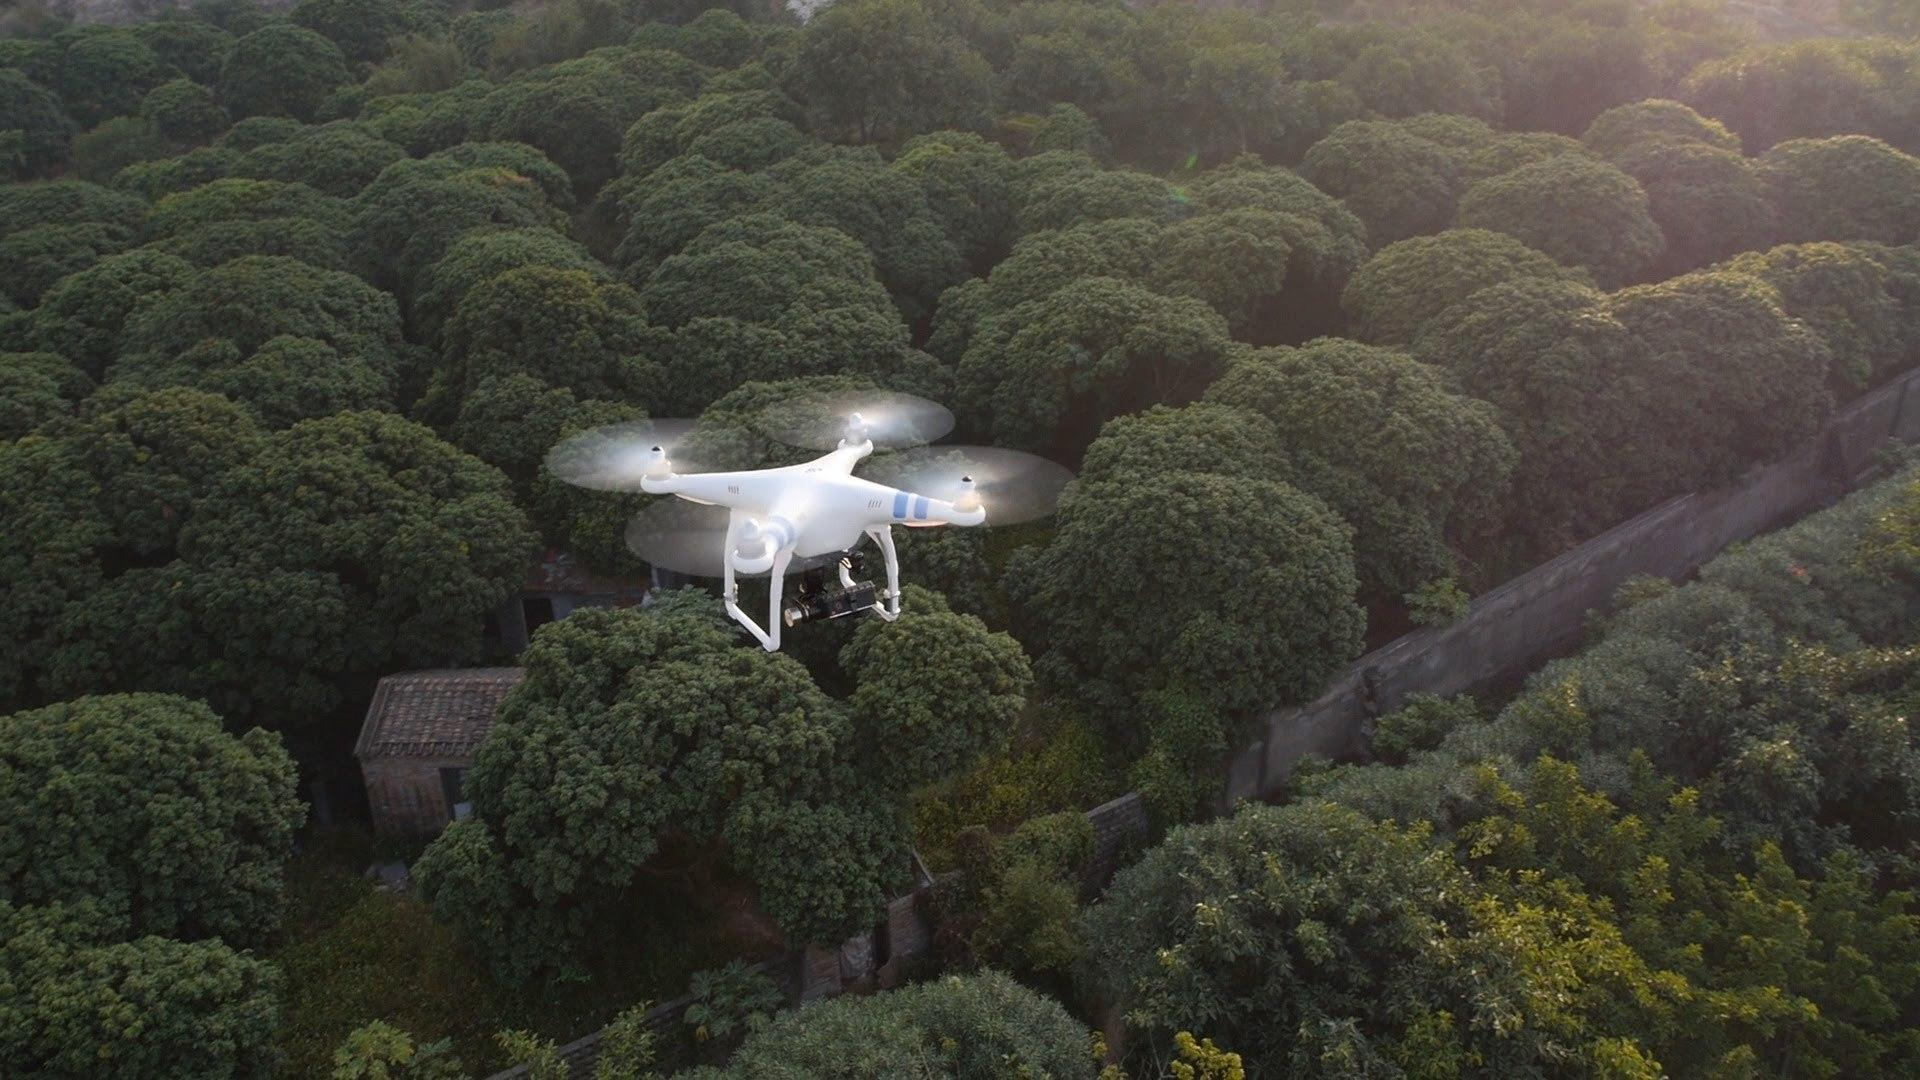drone: (545, 411, 905, 630)
